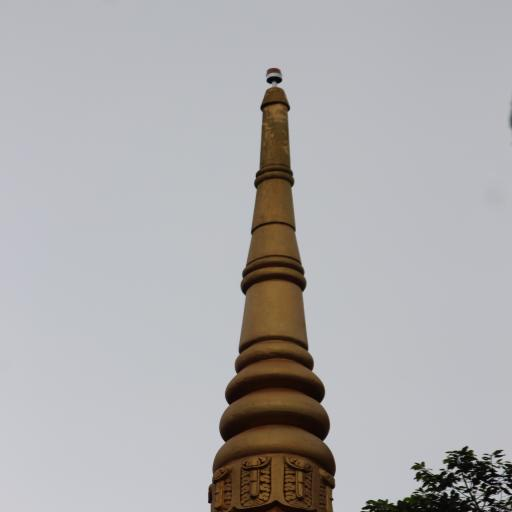la: (235, 454, 276, 512), (278, 454, 310, 511), (209, 463, 230, 512), (313, 466, 329, 512)
